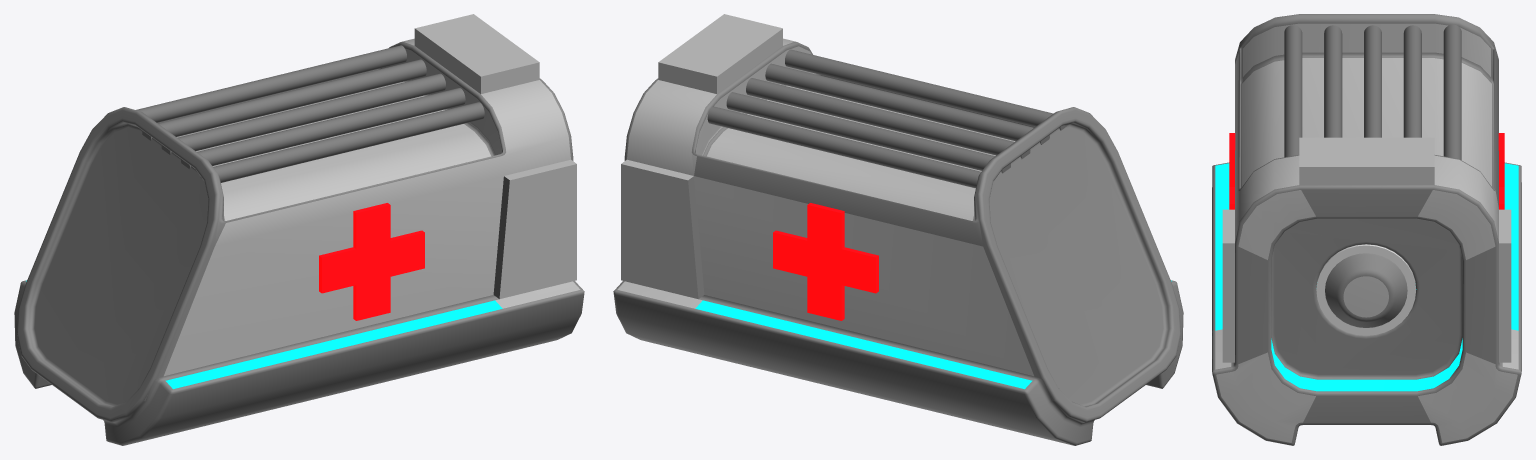
File: healthCrate_fbx.fbx
3 renders of one model, left to right at view 1: azimuth 30°, elevation 25°; view 2: azimuth 150°, elevation 25°; view 3: azimuth 270°, elevation 25°, orthographic. The views are drawn at different scales.
Parts seen in each view (by area): view 1: Cube, Cylinder, Plane; view 2: Cube, Cylinder, Plane; view 3: Cube, Cylinder, Cutter, Plane.
Boxes of the visible parts, left/top/right/bottom form: Cube: left=14, top=14, right=584, bottom=445; Cylinder: left=130, top=45, right=484, bottom=182; Plane: left=319, top=203, right=424, bottom=320; Cube: left=613, top=14, right=1183, bottom=445; Cylinder: left=707, top=49, right=1067, bottom=188; Plane: left=773, top=203, right=878, bottom=320; Cube: left=1212, top=14, right=1521, bottom=445; Cylinder: left=1284, top=24, right=1461, bottom=159; Cutter: left=1316, top=244, right=1415, bottom=335; Plane: left=1229, top=133, right=1504, bottom=209.
Bounding box in the file's own units: 400 × 232 × 235.
